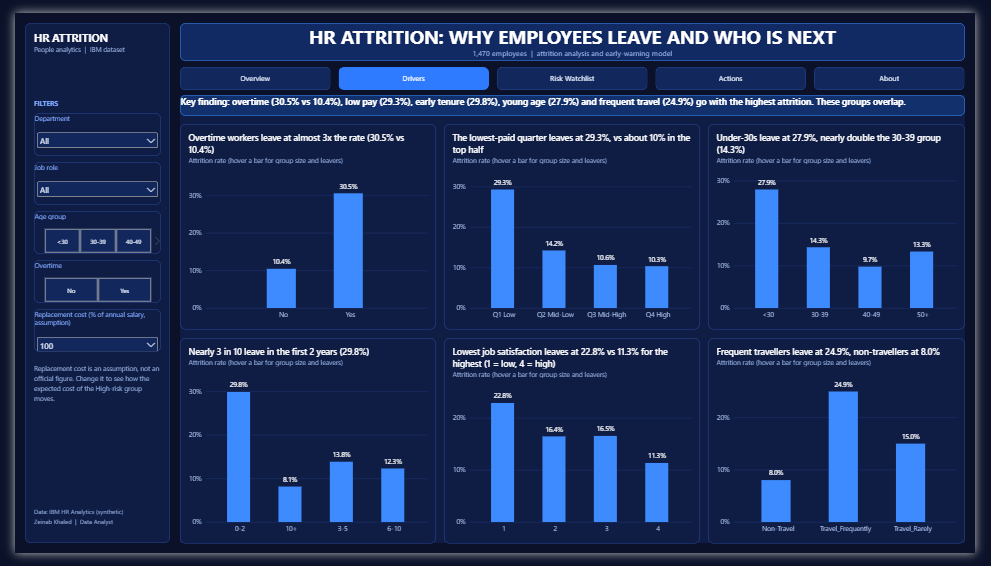

Layout of this report page (visuals, bound fields, positions):
{"tool":"powerbi","page":{"name":"Dashboard","canvas":[1920,1080],"ordinal":1},"visuals":[{"type":"textbox","box":[330,164,1570,42],"z":10,"group":"g1"},{"type":"barChart","title":"Sales and HR lose about 1 in 5 employees, R&D about 1 in 7","fields":{"Category":["HR.Department"],"Y":["HR.Attrition Rate"]},"box":[330,346,540,330],"z":10,"group":"g1"},{"type":"donutChart","title":"Share of employees who left","fields":{"Category":["HR.Attrition"],"Y":["HR.Total Employees"]},"box":[886,346,460,330],"z":11,"group":"g1"},{"type":"clusteredColumnChart","title":"Employees by model risk level","fields":{"Category":["HR.RiskLevel"],"Y":["HR.Total Employees"]},"box":[1362,346,538,330],"z":12,"group":"g1"},{"type":"tableEx","title":"Sales Representatives leave at 39.8% (83 people); most other roles stay below 20%","fields":{"Values":["HR.JobRole","HR.Total Employees","HR.Attrition Count","HR.Attrition Rate"]},"box":[330,692,940,368],"z":13,"group":"g1"},{"type":"clusteredColumnChart","title":"Those who left earned about 30% less (4,787 vs 6,833 a month)","fields":{"Category":["HR.Attrition"],"Y":["HR.Avg Monthly Income"]},"box":[1286,692,614,368],"z":14,"group":"g1"},{"type":"textbox","box":[20,20,290,1040],"z":40},{"type":"textbox","box":[38,34,254,64],"z":60},{"type":"textbox","box":[38,170,254,24],"z":62},{"type":"slicer","title":"Department","fields":{"Values":["HR.Department"]},"box":[38,200,254,86],"z":70},{"type":"slicer","title":"Job role","fields":{"Values":["HR.JobRole"]},"box":[38,298,254,86],"z":71},{"type":"slicer","title":"Age group","fields":{"Values":["HR.AgeGroup"]},"box":[38,396,254,86],"z":72},{"type":"slicer","title":"Overtime","fields":{"Values":["HR.OverTime"]},"box":[38,494,254,86],"z":73},{"type":"slicer","title":"Replacement cost (% of annual salary, assumption)","fields":{"Values":["Replacement Cost.Replacement Cost"]},"box":[38,592,254,86],"z":74},{"type":"textbox","box":[38,700,254,170],"z":75},{"type":"textbox","box":[38,985,254,60],"z":76},{"type":"textbox","box":[330,20,1570,76],"z":100},{"type":"cardVisual","fields":{"Data":["HR.Total Employees"]},"box":[330,222,248,108],"z":100,"group":"g1"},{"type":"cardVisual","fields":{"Data":["HR.Attrition Count"]},"box":[594,222,248,108],"z":101,"group":"g1"},{"type":"cardVisual","fields":{"Data":["HR.Attrition Rate"]},"box":[858,222,248,108],"z":102,"group":"g1"},{"type":"cardVisual","fields":{"Data":["HR.Avg Monthly Income"]},"box":[1122,222,248,108],"z":103,"group":"g1"},{"type":"cardVisual","fields":{"Data":["HR.Avg Tenure (Years)"]},"box":[1386,222,248,108],"z":104,"group":"g1"},{"type":"cardVisual","fields":{"Data":["HR.High Risk (Active)"]},"box":[1650,222,250,108],"z":105,"group":"g1"},{"type":"bookmarkNavigator","box":[330,108,1570,46],"z":200},{"type":"group","id":"g1","title":"V1 Overview","box":[330,164,1570,896],"z":1000}]}

Visuals, with their boxes in screenshot pixels (x1, y1, x2, y2), scaled from the page's 1920x1080 canvas onto the 991x566 screenshot:
textbox: bbox=(170, 86, 981, 108)
"Sales and HR lose about 1 in 5 employees, R&D about 1 in 7" barChart: bbox=(170, 181, 449, 354)
"Share of employees who left" donutChart: bbox=(457, 181, 695, 354)
"Employees by model risk level" clusteredColumnChart: bbox=(703, 181, 981, 354)
"Sales Representatives leave at 39.8% (83 people); most other roles stay below 20%" tableEx: bbox=(170, 363, 656, 556)
"Those who left earned about 30% less (4,787 vs 6,833 a month)" clusteredColumnChart: bbox=(664, 363, 981, 556)
textbox: bbox=(10, 10, 160, 556)
textbox: bbox=(20, 18, 151, 51)
textbox: bbox=(20, 89, 151, 102)
"Department" slicer: bbox=(20, 105, 151, 150)
"Job role" slicer: bbox=(20, 156, 151, 201)
"Age group" slicer: bbox=(20, 208, 151, 253)
"Overtime" slicer: bbox=(20, 259, 151, 304)
"Replacement cost (% of annual salary, assumption)" slicer: bbox=(20, 310, 151, 355)
textbox: bbox=(20, 367, 151, 456)
textbox: bbox=(20, 516, 151, 548)
textbox: bbox=(170, 10, 981, 50)
cardVisual - HR.Total Employees: bbox=(170, 116, 298, 173)
cardVisual - HR.Attrition Count: bbox=(307, 116, 435, 173)
cardVisual - HR.Attrition Rate: bbox=(443, 116, 571, 173)
cardVisual - HR.Avg Monthly Income: bbox=(579, 116, 707, 173)
cardVisual - HR.Avg Tenure (Years): bbox=(715, 116, 843, 173)
cardVisual - HR.High Risk (Active): bbox=(852, 116, 981, 173)
bookmarkNavigator: bbox=(170, 57, 981, 81)
"V1 Overview" group: bbox=(170, 86, 981, 556)
